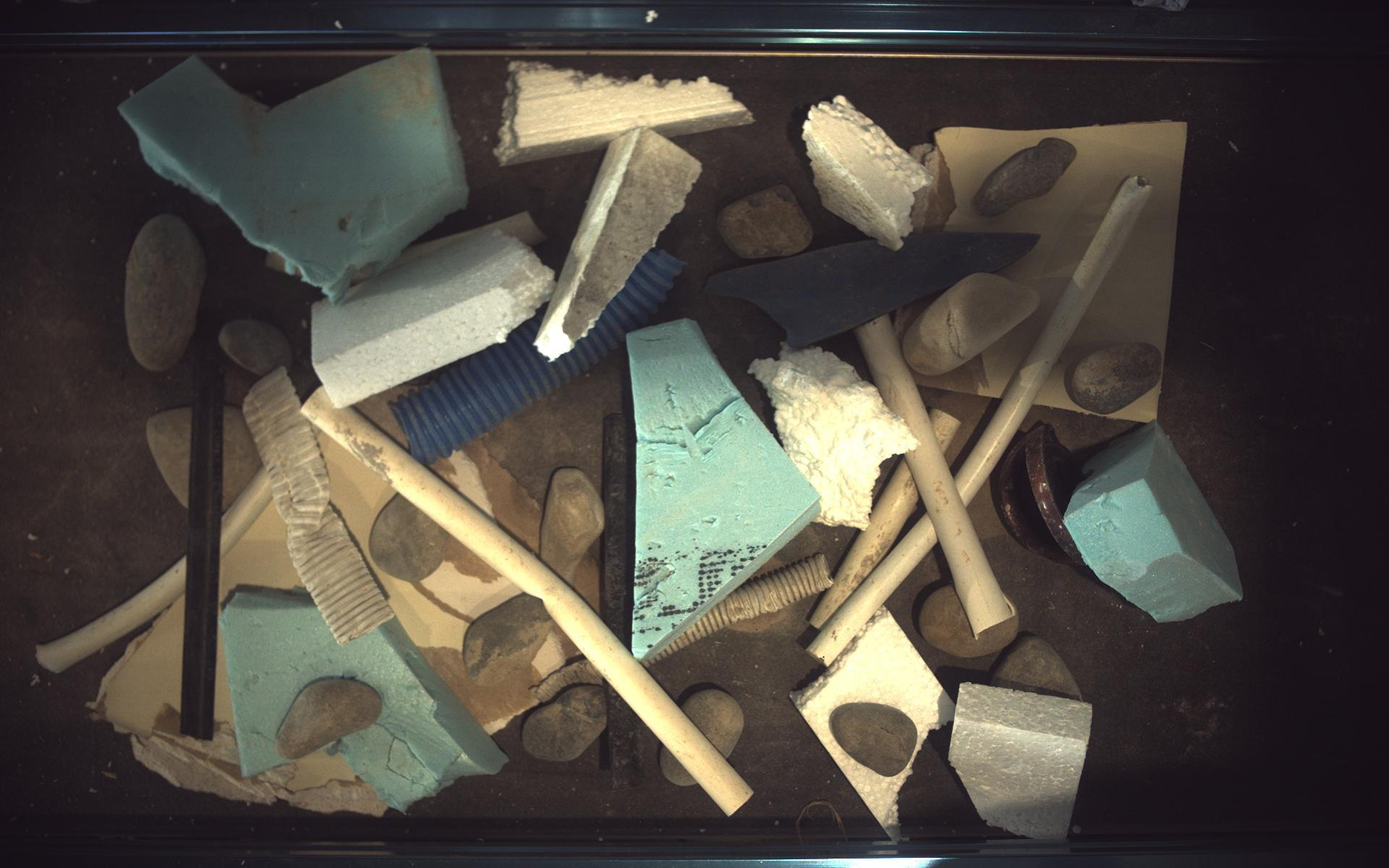foam: (118, 48, 467, 302), (627, 318, 821, 660), (219, 586, 507, 813), (311, 227, 556, 409), (535, 127, 702, 360), (791, 608, 956, 841), (1066, 422, 1246, 623), (749, 344, 920, 529), (495, 60, 755, 164), (951, 685, 1094, 841), (801, 95, 935, 250)
general_w: (994, 422, 1085, 565)
gypsum_board: (895, 120, 1189, 423), (89, 597, 387, 817), (375, 540, 579, 735), (434, 441, 540, 552), (318, 433, 393, 561), (218, 505, 300, 600), (357, 387, 410, 445), (574, 544, 600, 611)
pipes: (303, 389, 753, 817), (953, 175, 1154, 509), (391, 247, 684, 465), (857, 315, 1015, 637), (242, 367, 394, 646), (651, 554, 835, 664), (809, 511, 939, 666), (179, 323, 224, 741), (811, 459, 920, 629), (35, 558, 184, 674), (393, 210, 546, 265), (392, 210, 545, 265), (600, 413, 635, 647), (220, 468, 271, 555), (603, 694, 641, 790), (532, 659, 604, 704), (933, 409, 961, 450), (266, 252, 300, 276), (349, 267, 372, 285)
plastic: (706, 231, 1042, 348)
stone: (904, 272, 1042, 375), (124, 213, 205, 372), (275, 679, 382, 761), (974, 136, 1079, 216), (463, 594, 553, 687), (540, 468, 606, 584), (920, 586, 1021, 658), (369, 494, 449, 583), (718, 184, 813, 258), (1069, 342, 1165, 414), (831, 703, 919, 778), (522, 686, 607, 763), (992, 634, 1085, 702), (145, 407, 191, 509), (682, 689, 745, 759), (218, 319, 292, 375), (221, 406, 261, 509), (660, 749, 697, 788)
